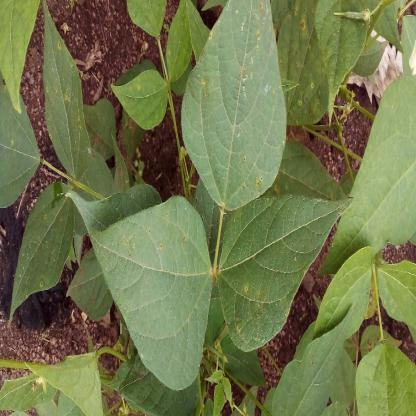Beans_Angular_LeafSpot: (67, 8, 348, 400)
